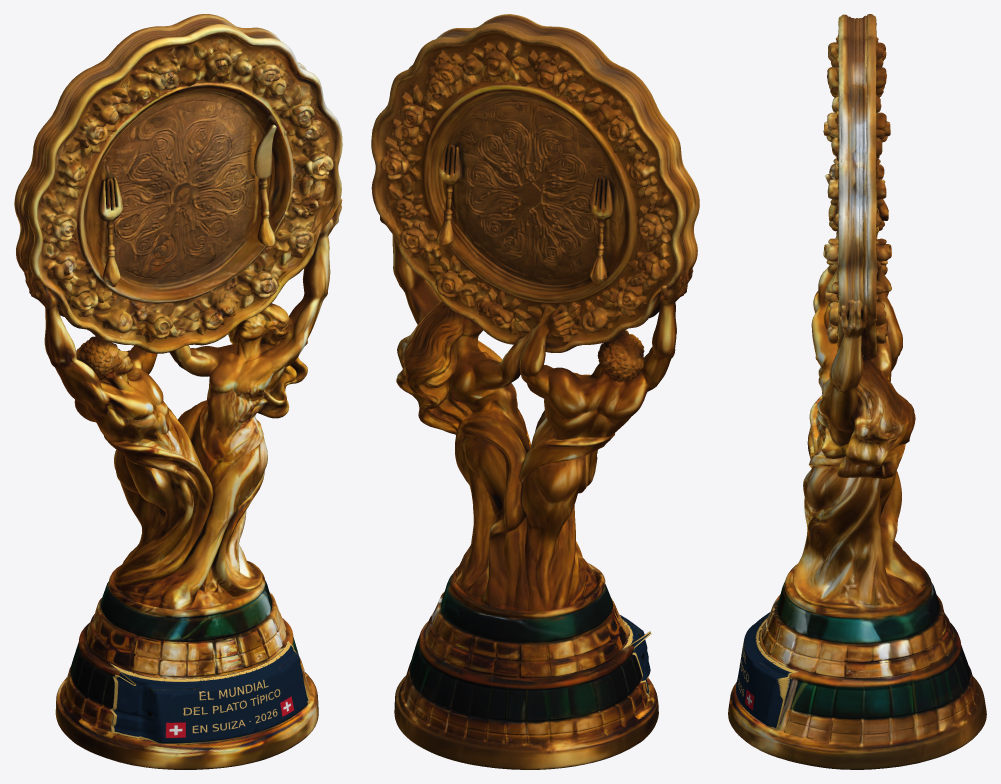
The model's file is trofeo-2026.glb.
3 renders of one model, left to right at view 1: azimuth 30°, elevation 25°; view 2: azimuth 150°, elevation 25°; view 3: azimuth 270°, elevation 25°, orthographic.
Visible parts, largest first — view 1: model, Placa corregida 2026; view 2: model, Placa corregida 2026; view 3: model, Placa corregida 2026.
Boxes of the visible parts, box(x1,y1,x2,y2) form: model: box(14, 14, 342, 769); Placa corregida 2026: box(109, 640, 309, 744); model: box(371, 14, 699, 769); Placa corregida 2026: box(619, 615, 651, 698); model: box(728, 14, 986, 769); Placa corregida 2026: box(736, 612, 799, 730).
Size of the model in its own units: 0.9008 by 1.9 by 0.6533.
2 materials, 2 textured.
